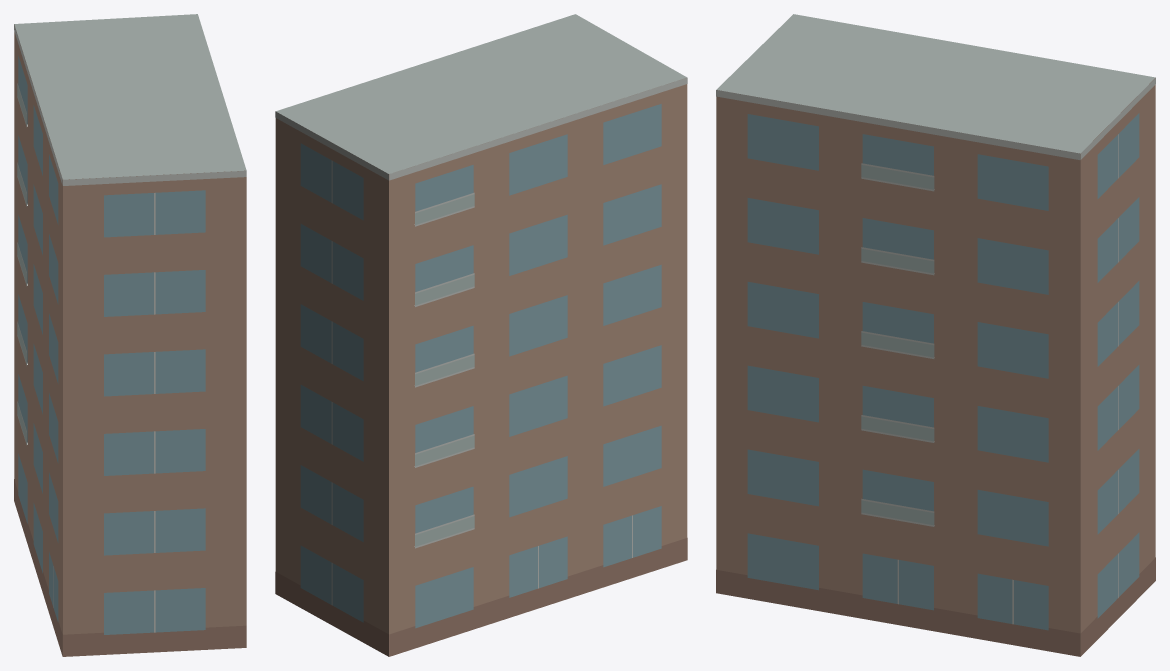
File: survey-upis-32998618.glb
The picture shows the model from 3 angles, left to right: view 1: azimuth 30°, elevation 25°; view 2: azimuth 150°, elevation 25°; view 3: azimuth 270°, elevation 25°; orthographic projection. The views are drawn at different scales.
Parts seen in each view (by area): view 1: survey-upis-32998618.tmp; view 2: survey-upis-32998618.tmp; view 3: survey-upis-32998618.tmp.
Boxes of the visible parts, x1,y1,x2,y2 form: survey-upis-32998618.tmp: (14,14,246,656); survey-upis-32998618.tmp: (275,14,687,656); survey-upis-32998618.tmp: (716,14,1155,656).
Size of the model in its own units: 10.89 by 18.3 by 14.5.
